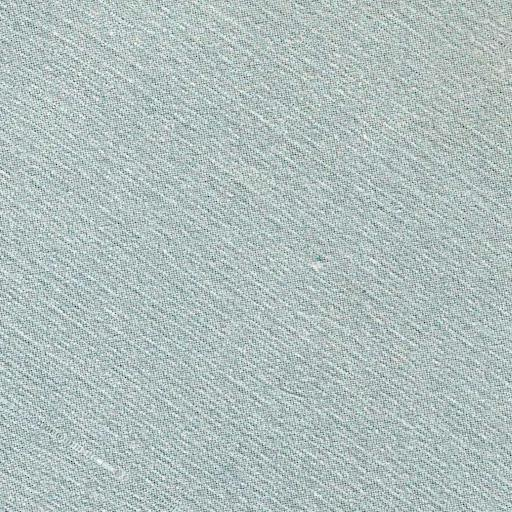knot: (297, 246, 335, 282)
